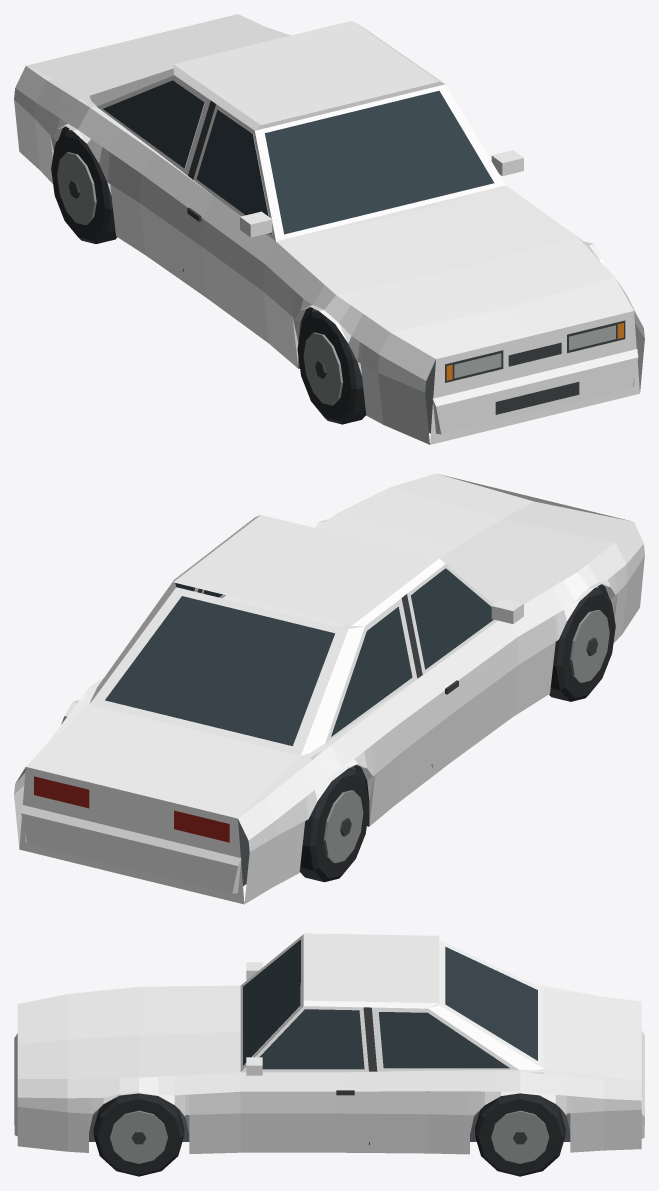
Rendered from kanaya_shijima_s.glb.
The picture shows the model from 3 angles, top to bottom: view 1: azimuth 30°, elevation 25°; view 2: azimuth 150°, elevation 25°; view 3: azimuth 270°, elevation 25°; orthographic projection. The views are drawn at different scales.
Visible parts, largest first — view 1: kanaya_shijima_s; view 2: kanaya_shijima_s; view 3: kanaya_shijima_s.
Part boxes in pixels (box(x1,y1,x2,y2)): kanaya_shijima_s: box(14, 14, 644, 444); kanaya_shijima_s: box(14, 473, 644, 904); kanaya_shijima_s: box(14, 933, 644, 1176).
Size of the model in its own units: 1.77 by 1.28 by 4.55.
Materials: 8 (1 with a texture image).
